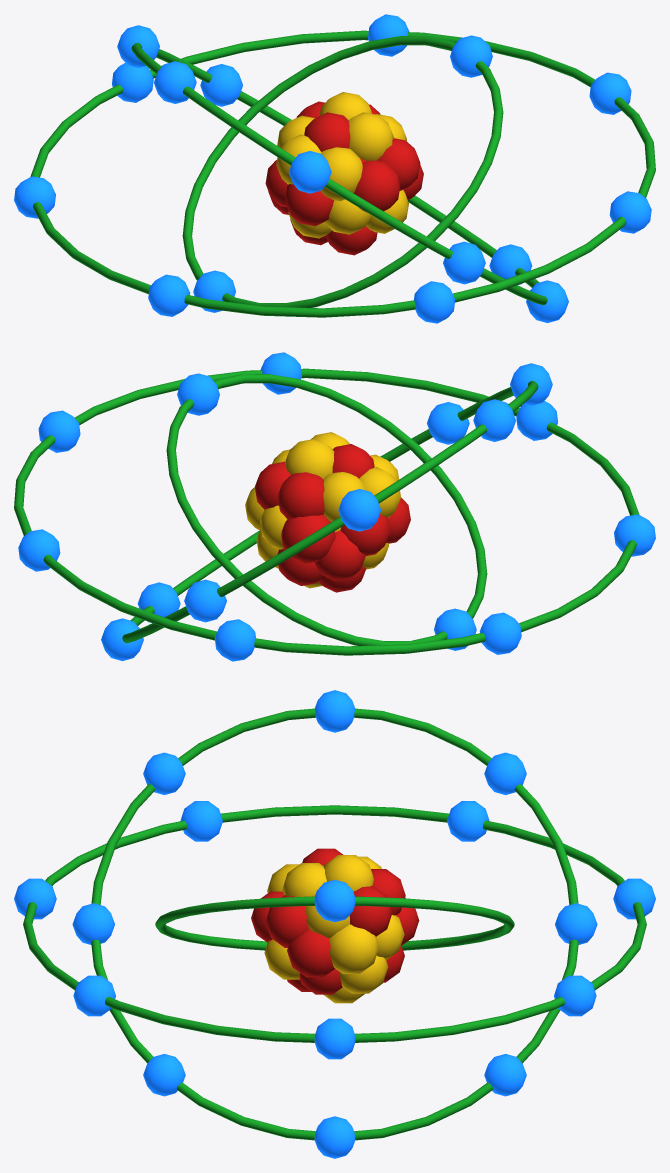
File: Atom_Cl.fbx
The picture shows the model from 3 angles, top to bottom: view 1: azimuth 30°, elevation 25°; view 2: azimuth 150°, elevation 25°; view 3: azimuth 270°, elevation 25°; orthographic projection.
Parts seen in each view (by area): view 1: Cl_Orbit_3, Cl_Inti_Atom, Cl_Orbit_2, Cl_Orbit_1; view 2: Cl_Orbit_3, Cl_Inti_Atom, Cl_Orbit_2, Cl_Orbit_1; view 3: Cl_Orbit_2, Cl_Orbit_3, Cl_Inti_Atom, Cl_Orbit_1.
Part boxes in pixels (left/top/right/bottom): Cl_Orbit_3: left=14, top=14, right=655, bottom=323; Cl_Inti_Atom: left=265, top=92, right=423, bottom=255; Cl_Orbit_2: left=117, top=25, right=568, bottom=322; Cl_Orbit_1: left=182, top=35, right=503, bottom=312; Cl_Orbit_3: left=14, top=352, right=655, bottom=661; Cl_Inti_Atom: left=245, top=432, right=410, bottom=592; Cl_Orbit_2: left=101, top=363, right=552, bottom=660; Cl_Orbit_1: left=166, top=373, right=487, bottom=650; Cl_Orbit_2: left=72, top=690, right=597, bottom=1158; Cl_Orbit_3: left=14, top=801, right=655, bottom=1059; Cl_Inti_Atom: left=251, top=848, right=419, bottom=1003; Cl_Orbit_1: left=155, top=880, right=514, bottom=950.
Bounding box in the file's own units: 1.64 × 0.8499 × 1.65.
